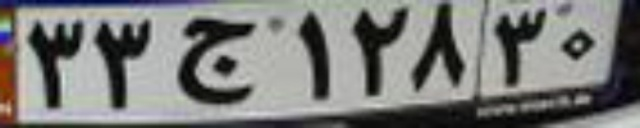0: (554, 26, 599, 62)
1: (294, 10, 330, 99)
2: (350, 5, 405, 97)
3: (22, 21, 85, 110), (95, 20, 157, 108), (491, 7, 547, 86)
8: (413, 2, 463, 90)
jim: (176, 18, 253, 104)
